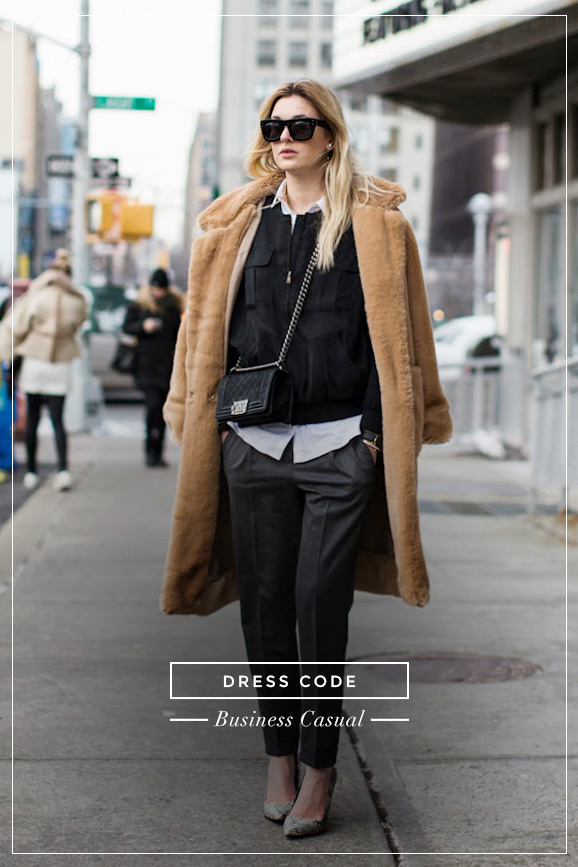F_W_suit jacket: (175, 173, 403, 434)
